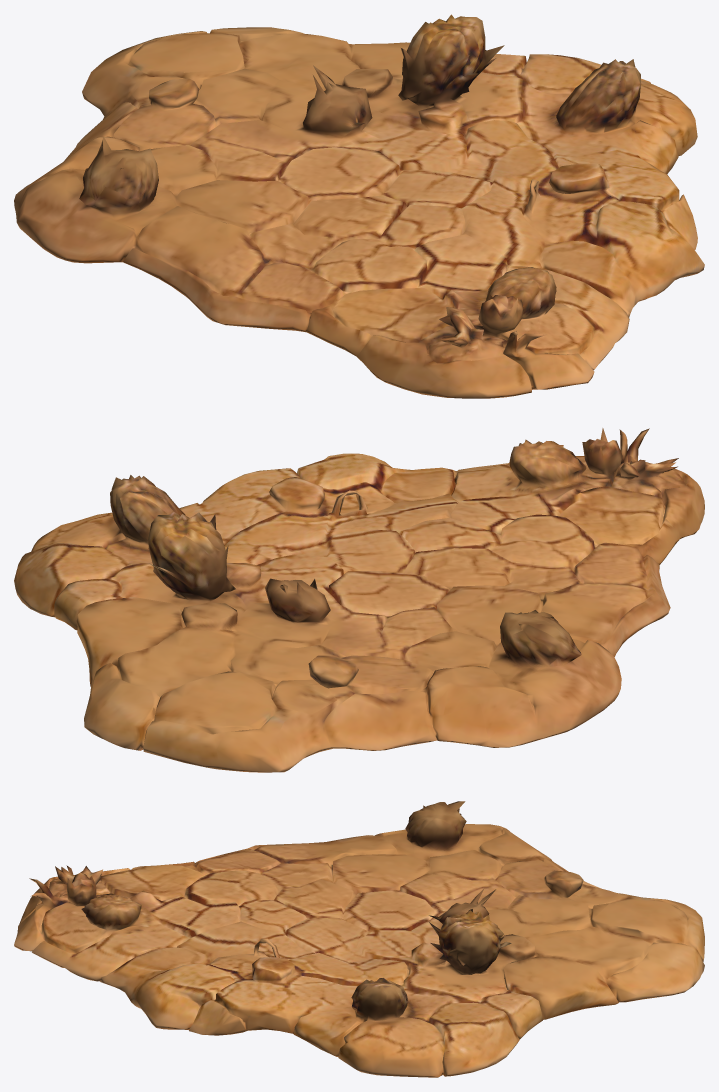
The model's file is Piso_1.glb.
The picture shows the model from 3 angles, top to bottom: view 1: azimuth 30°, elevation 25°; view 2: azimuth 150°, elevation 25°; view 3: azimuth 270°, elevation 25°; orthographic projection. The views are drawn at different scales.
Parts seen in each view (by area): view 1: Piso 1; view 2: Piso 1; view 3: Piso 1.
Boxes of the visible parts, x1,y1,x2,y2 form: Piso 1: (14,14,704,398); Piso 1: (14,428,704,772); Piso 1: (14,801,704,1077).
Size of the model in its own units: 0.2404 by 0.043 by 0.2946.
1 material, 1 textured.
